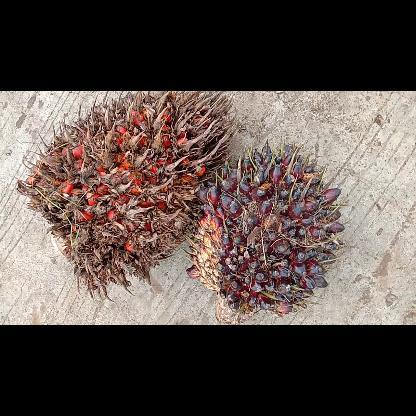TBS mentah: (186, 136, 345, 324)
Terlalu masak: (17, 91, 238, 303)
